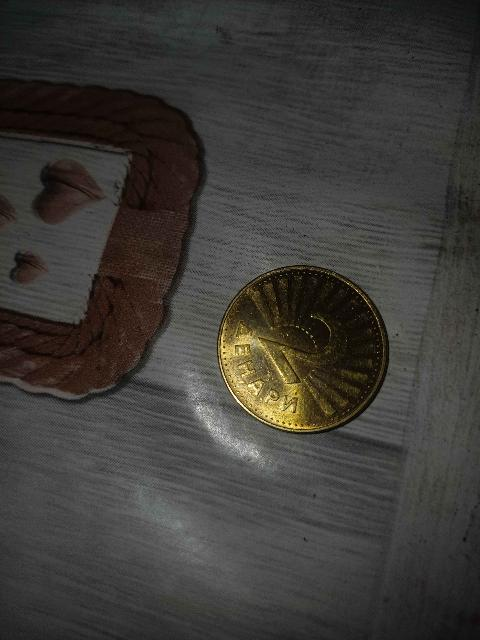2_coin: (218, 267, 387, 432)
